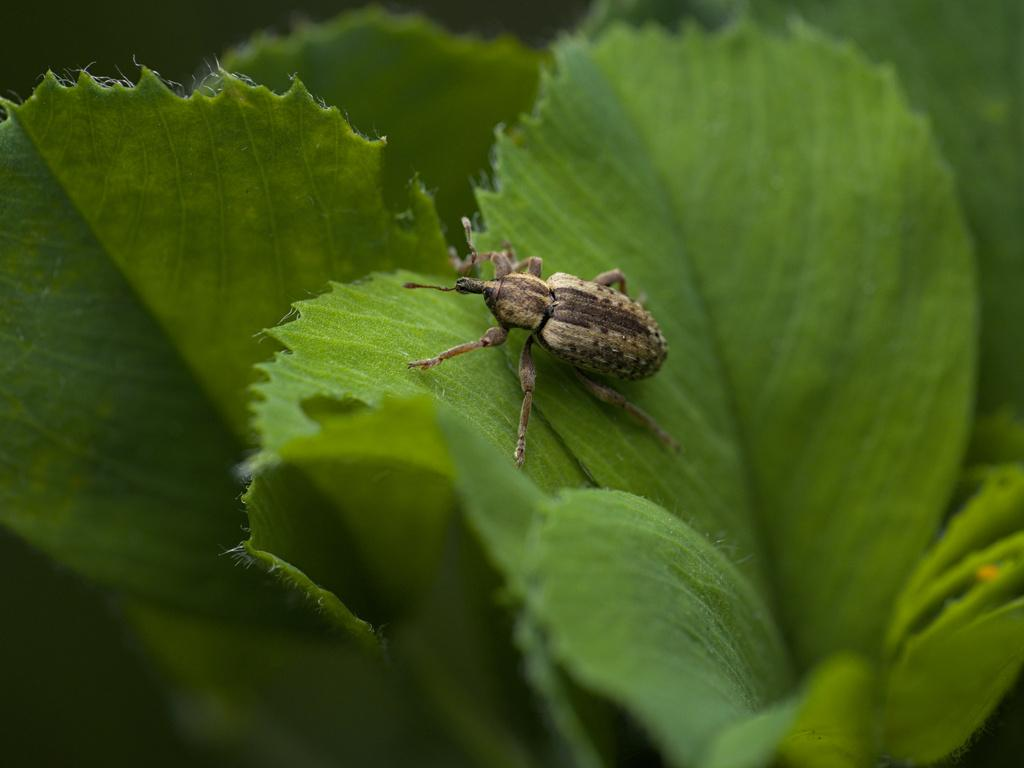weevils: (360, 178, 731, 510)
